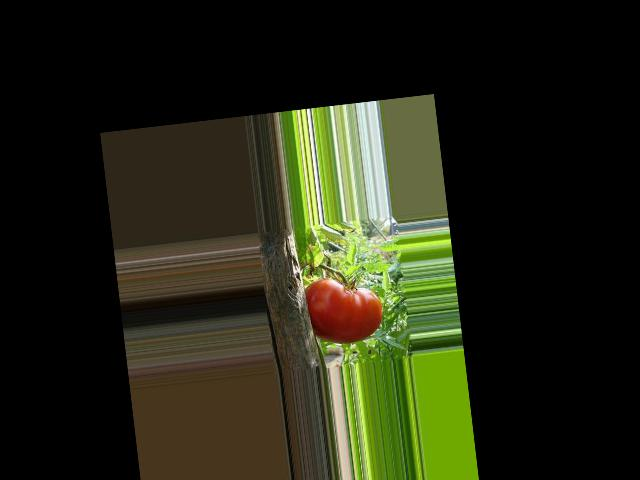tomato: (303, 272, 386, 346)
